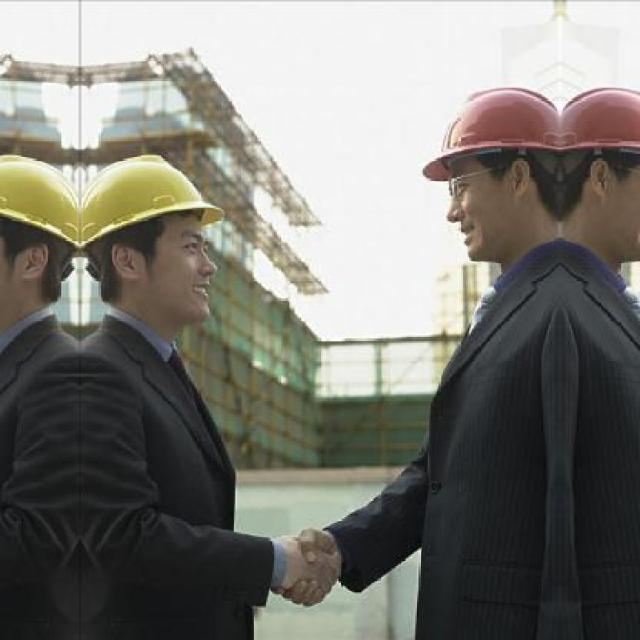helmet: (77, 150, 228, 272), (409, 78, 565, 195)
